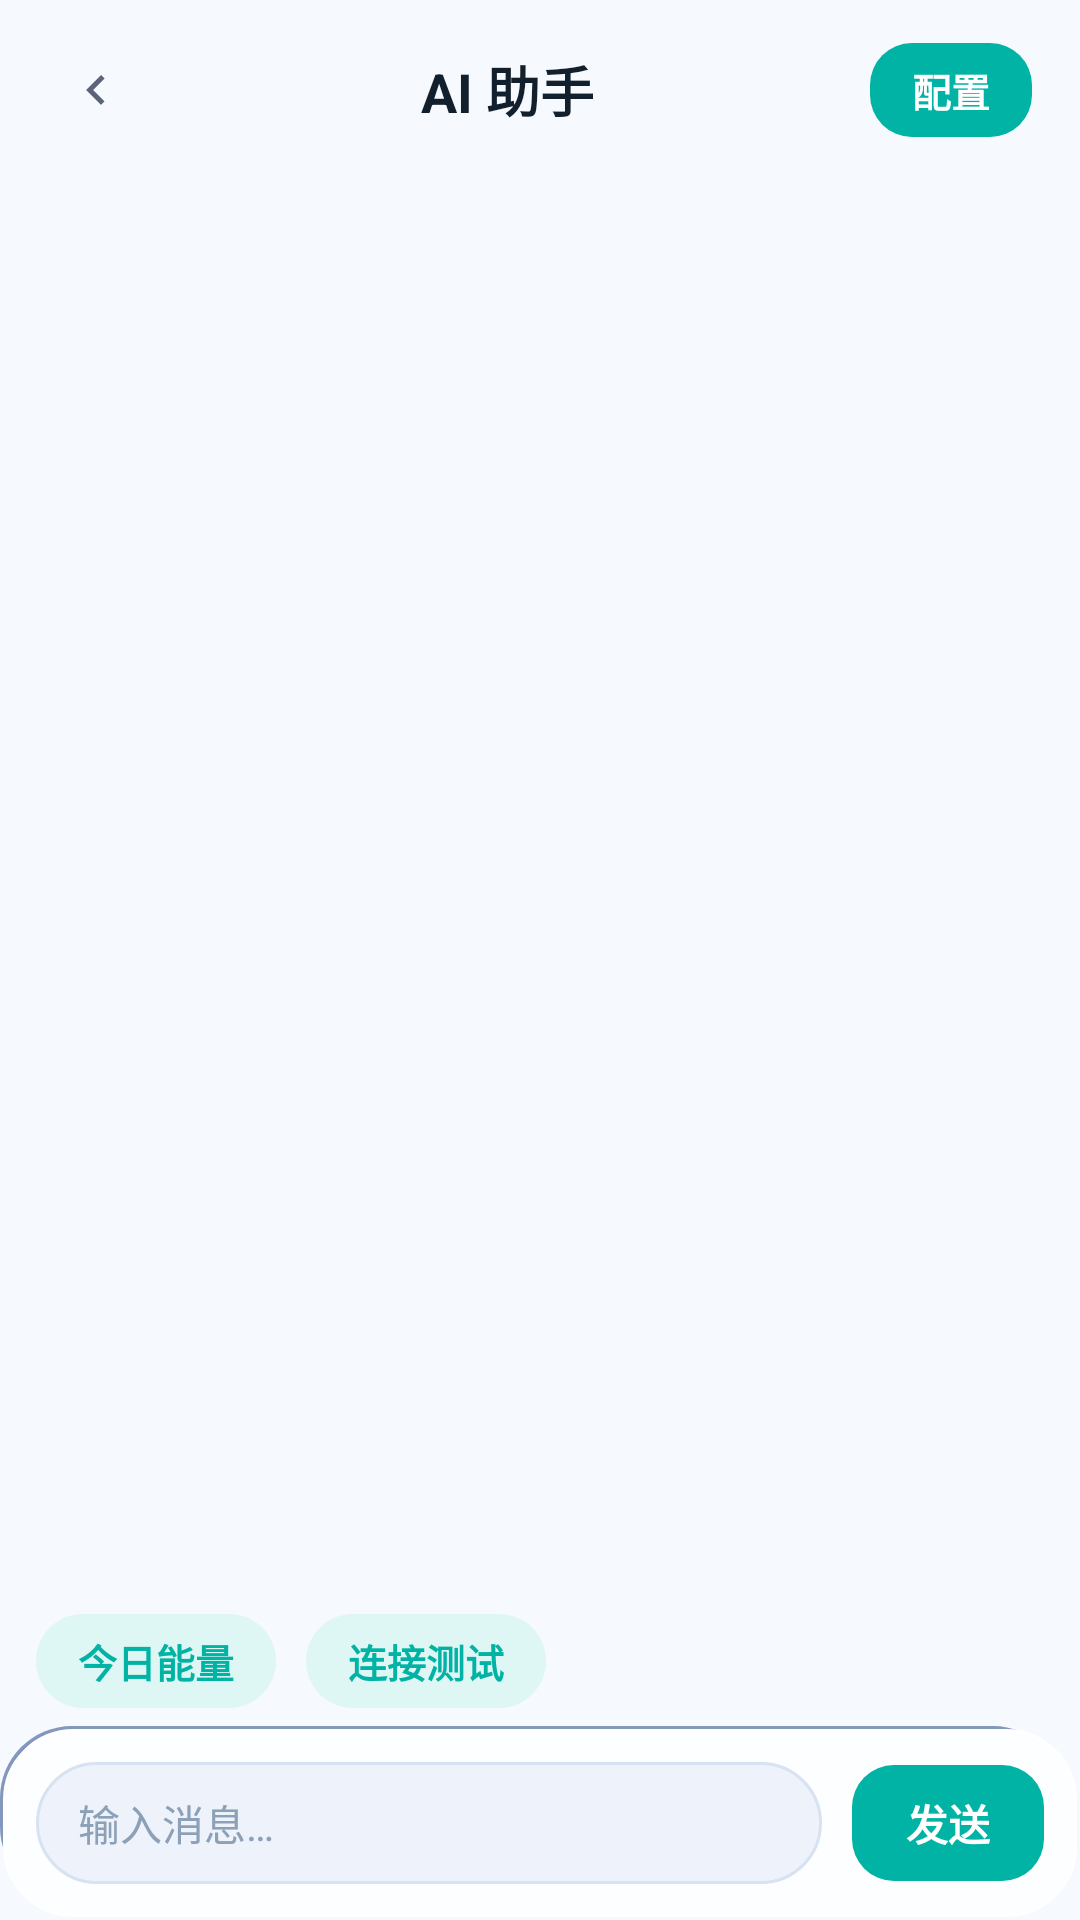

Icons on this 1080×1920 Android screen, each with the point to tap as point (x, y):
neo back: point (95, 90)
